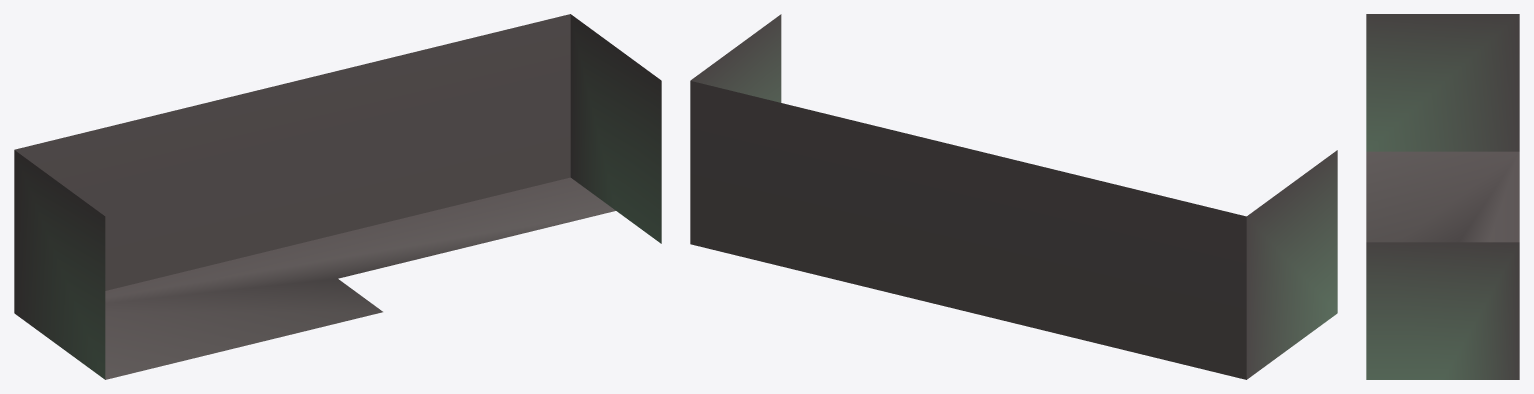
File: balcony-ladder-top.glb
3 renders of one model, left to right at view 1: azimuth 30°, elevation 25°; view 2: azimuth 150°, elevation 25°; view 3: azimuth 270°, elevation 25°, orthographic. The views are drawn at different scales.
Parts seen in each view (by area): view 1: balcony-ladder-top; view 2: balcony-ladder-top; view 3: balcony-ladder-top.
Boxes of the visible parts, x1,y1,x2,y2 form: balcony-ladder-top: (14, 14, 661, 379); balcony-ladder-top: (690, 14, 1337, 379); balcony-ladder-top: (1366, 14, 1519, 379).
Bounding box in the file's own units: 1 × 0.2808 × 0.2837.
